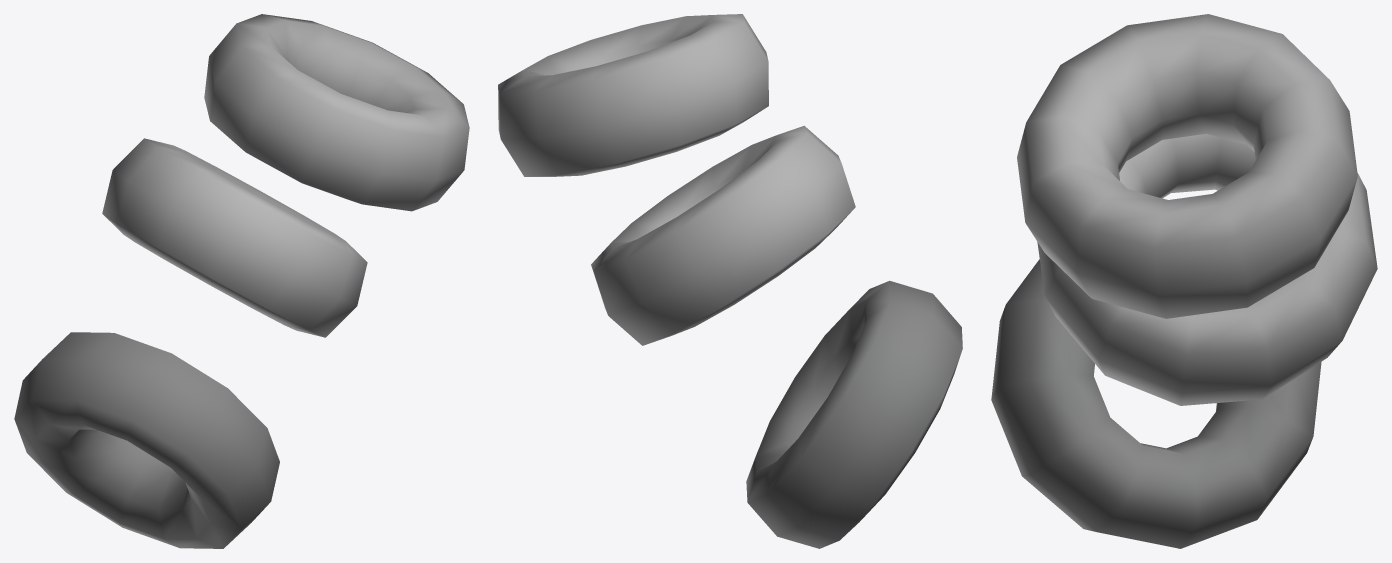
The model's file is Earring_17.fbx.
3 renders of one model, left to right at view 1: azimuth 30°, elevation 25°; view 2: azimuth 150°, elevation 25°; view 3: azimuth 270°, elevation 25°, orthographic. The views are drawn at different scales.
Parts seen in each view (by area): view 1: Earring_17; view 2: Earring_17; view 3: Earring_17.
Part boxes in pixels (<box>): Earring_17: <box>14,14,469,548</box>; Earring_17: <box>498,14,962,548</box>; Earring_17: <box>991,14,1377,548</box>.
Bounding box in the file's own units: 15.56 × 16.63 × 10.04.
